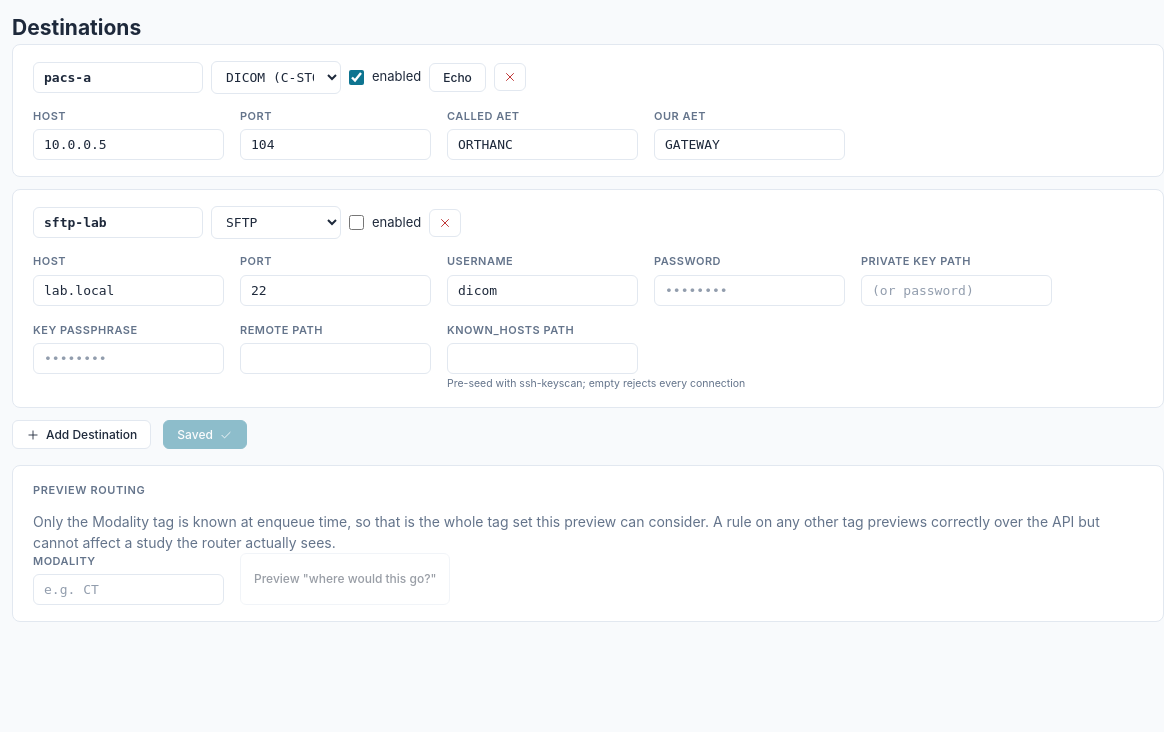
Test: DestinationsView › switching a destination type drops stale fields instead of 400ing
This screenshot has width=1164, height=732.
expect the 1st field showing "pacs-a" is shown: met, box [33,62,203,92]
Select "S3 / object storage" in the 1st dropdown named "Destination type" at (276, 77), box [211,60,341,94]
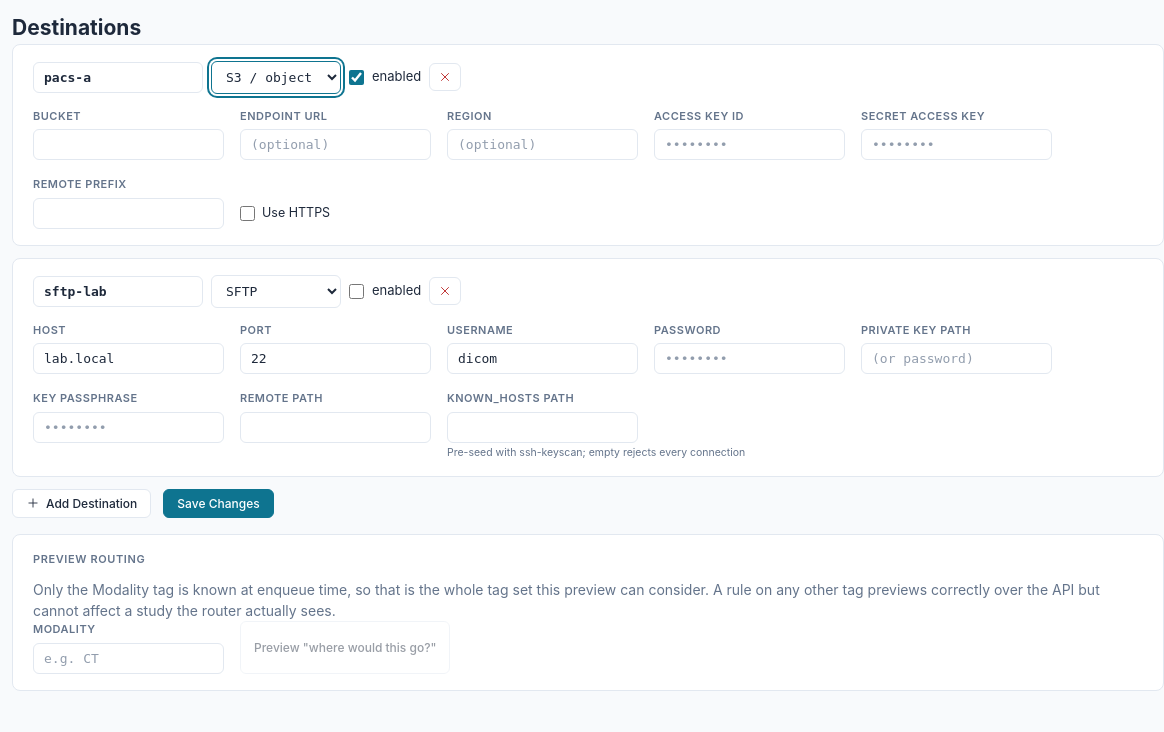
expect the field named "pacs-a Bucket" is shown: met, box [33,129,224,160]
